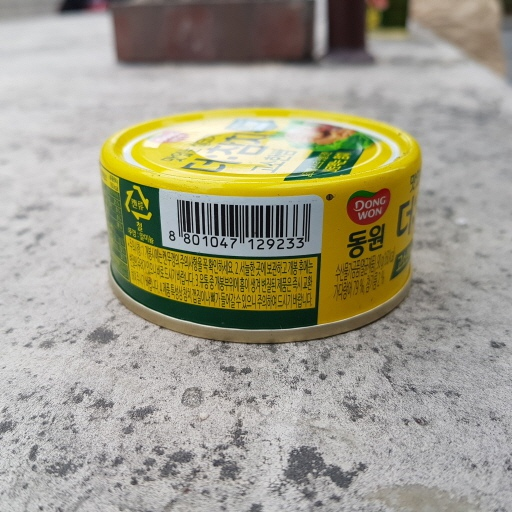Metal_1: (93, 109, 423, 344)
